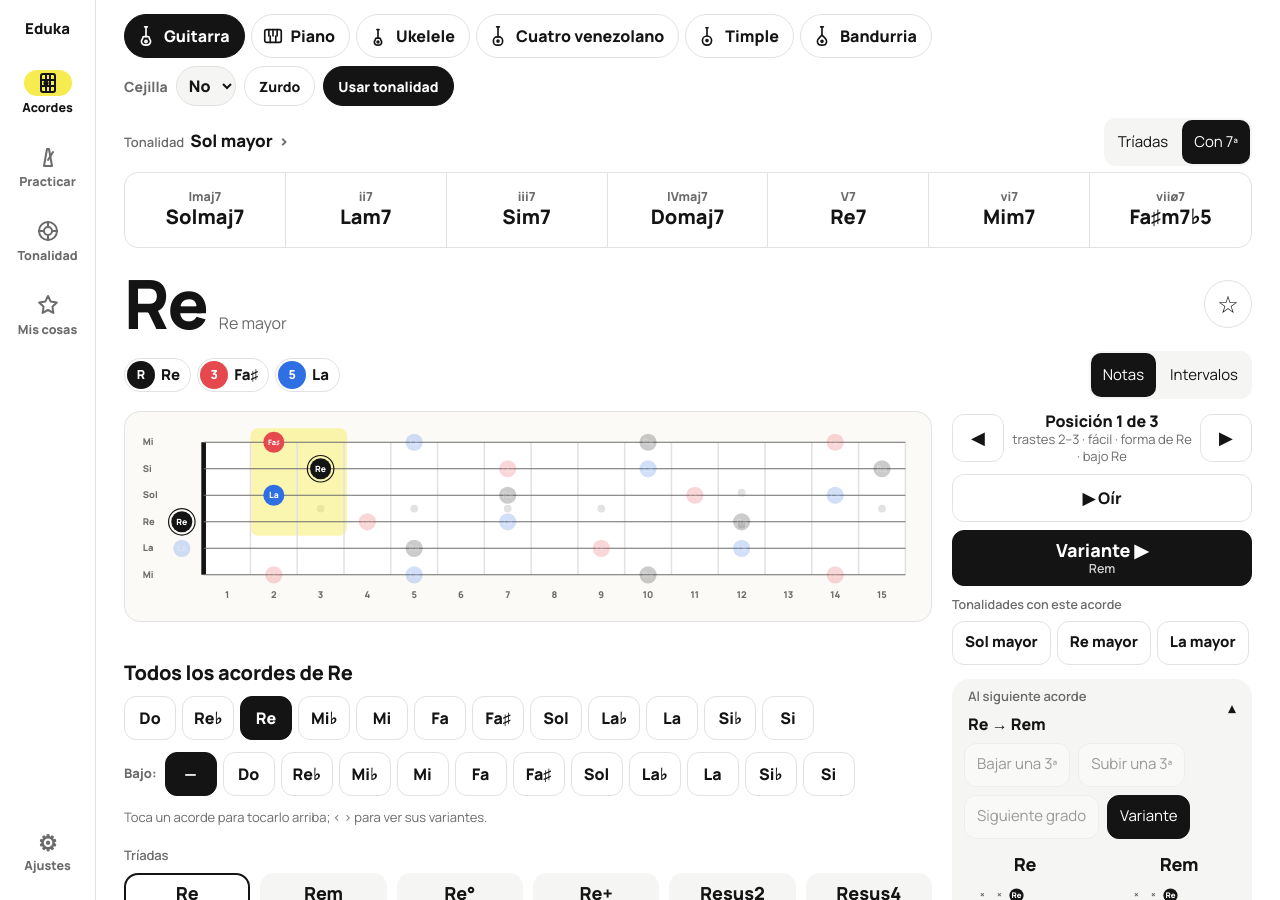
Test case: pantalla Acordes › raíz y bajo de la biblioteca: Re con bajo Fa♯ → D/F♯
Click the 2nd button "Fa♯": [539, 774] box [513, 752, 565, 796]
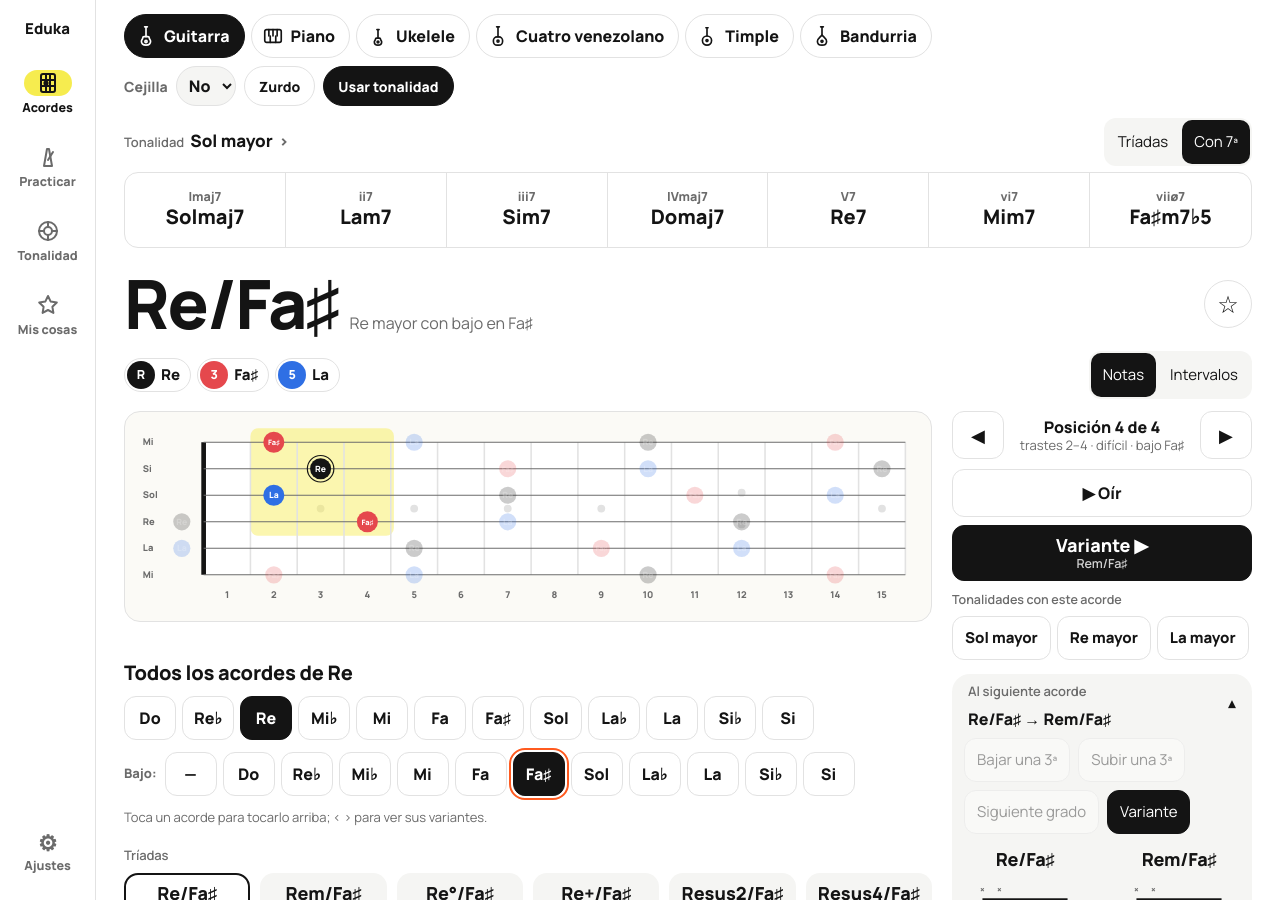
Check: the heading with test id "chord-symbol" reads "Re/Fa♯", box [124, 257, 338, 349]
